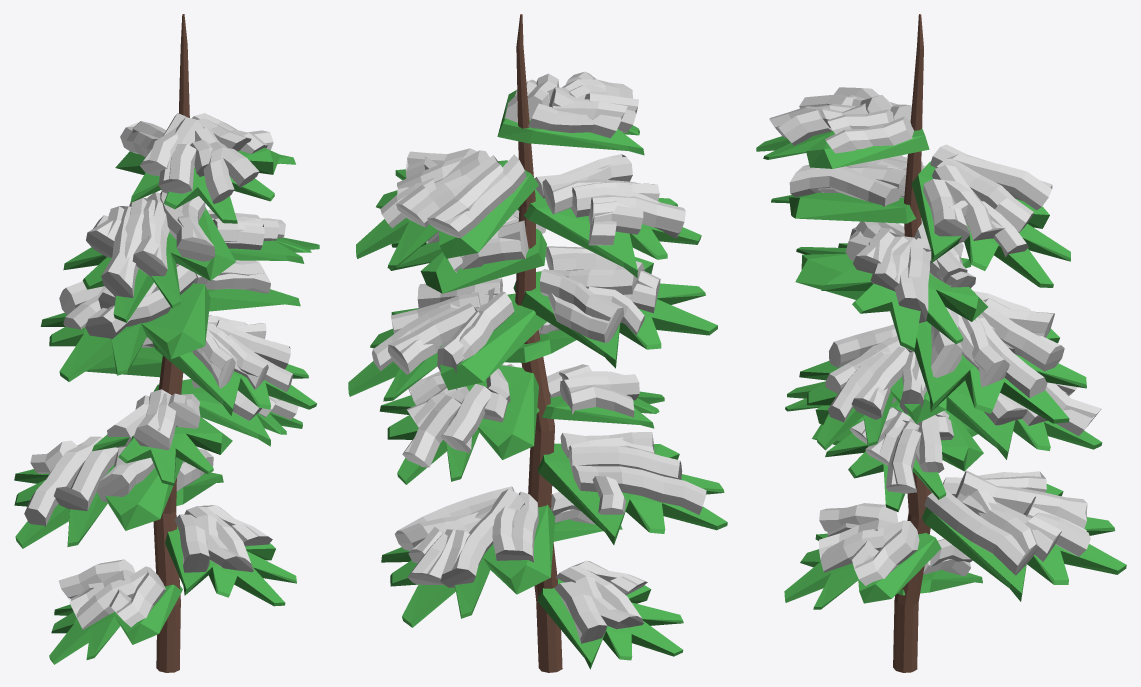
Rendered from tree5_lev5.glb.
The picture shows the model from 3 angles, left to right: view 1: azimuth 30°, elevation 25°; view 2: azimuth 150°, elevation 25°; view 3: azimuth 270°, elevation 25°; orthographic projection. The views are drawn at different scales.
Visible parts, largest first — view 1: tree5_lev5; view 2: tree5_lev5; view 3: tree5_lev5.
Part boxes in pixels (left/top/right/bottom): tree5_lev5: left=14, top=14, right=319, bottom=672; tree5_lev5: left=348, top=14, right=727, bottom=672; tree5_lev5: left=756, top=14, right=1126, bottom=672.
Size of the model in its own units: 13.28 by 26.1 by 13.19.
